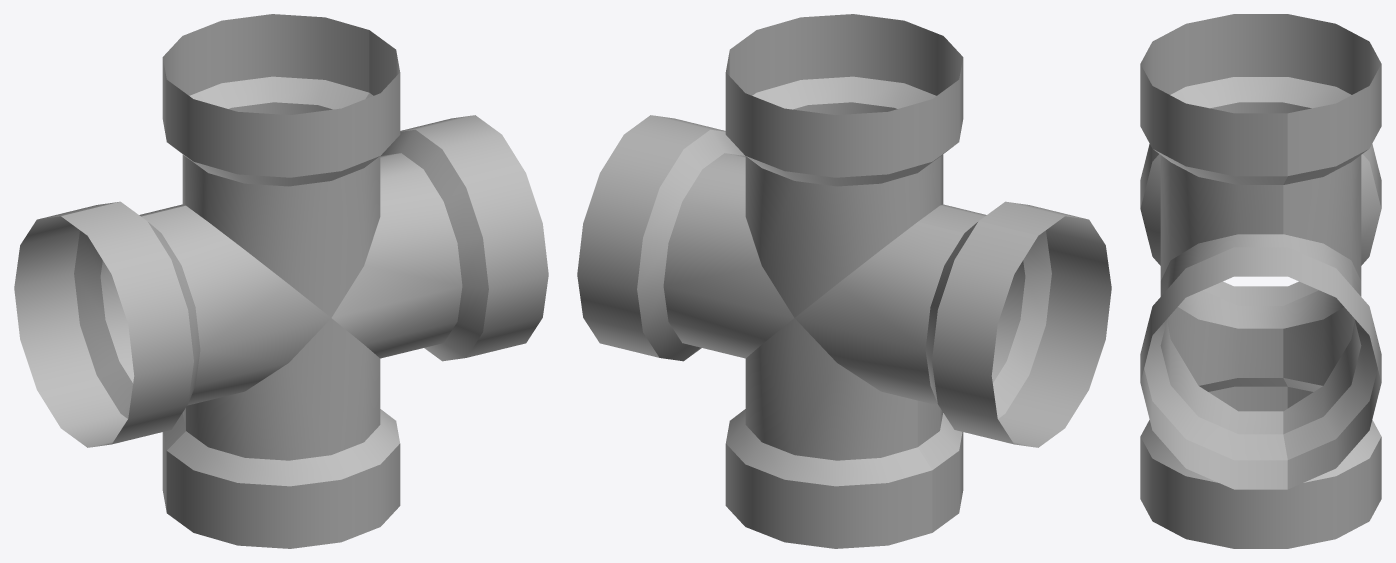
File: KF_SM_S4way.fbx
3 views of the same model, side by side, from view 1: azimuth 30°, elevation 25°; view 2: azimuth 150°, elevation 25°; view 3: azimuth 270°, elevation 25° (orthographic).
Parts seen in each view (by area): view 1: KF_SM_S4way; view 2: KF_SM_S4way; view 3: KF_SM_S4way.
Boxes of the visible parts, <box> form: KF_SM_S4way: <box>14,14,548,548</box>; KF_SM_S4way: <box>577,14,1111,548</box>; KF_SM_S4way: <box>1140,14,1381,548</box>.
Size of the model in its own units: 584 by 584 by 293.
